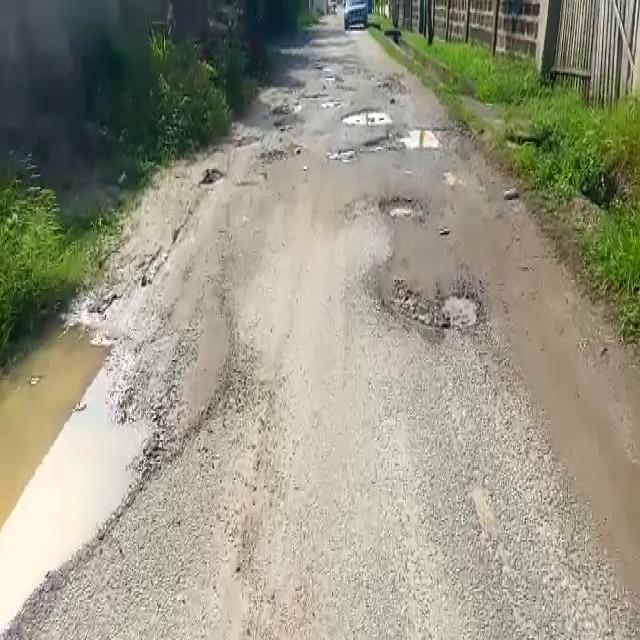pothole: (1, 313, 160, 632), (392, 286, 484, 330), (397, 123, 452, 151), (378, 193, 423, 222), (341, 109, 393, 127), (326, 145, 355, 165)
